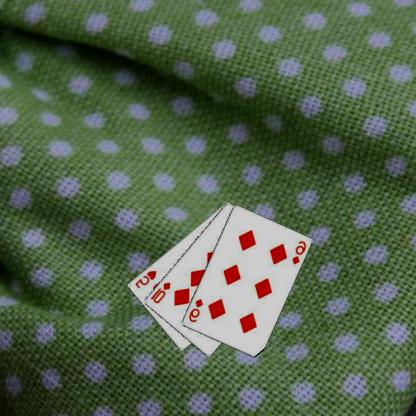10D: (150, 280, 173, 304)
5H: (134, 268, 159, 290)
6D: (188, 296, 206, 324), (291, 238, 308, 266)
